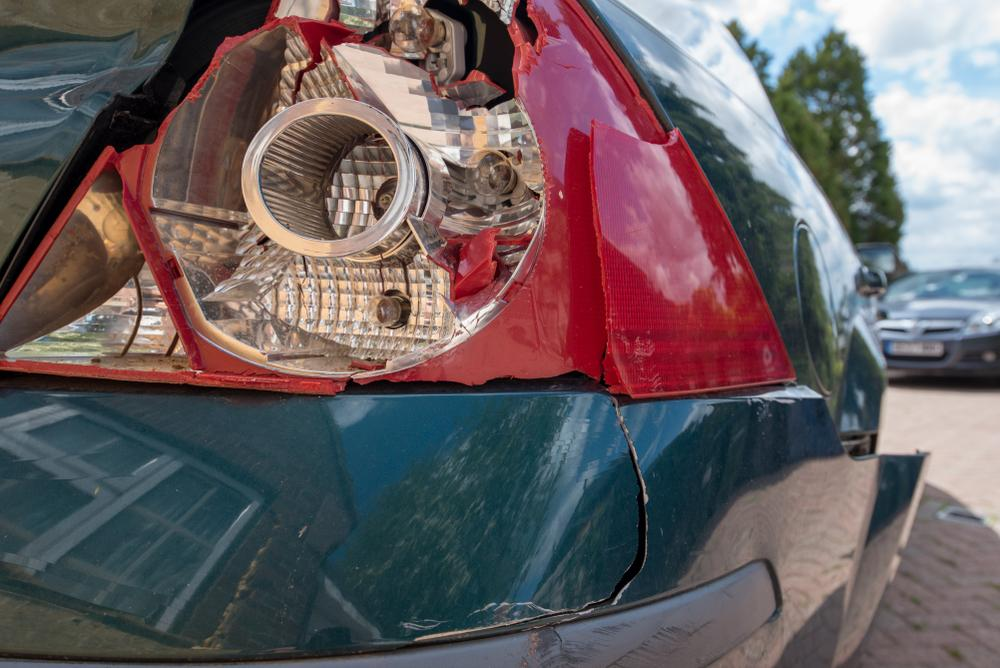crack: (485, 399, 647, 629)
lamp broken: (0, 0, 800, 400)
scratch: (513, 622, 710, 668)
